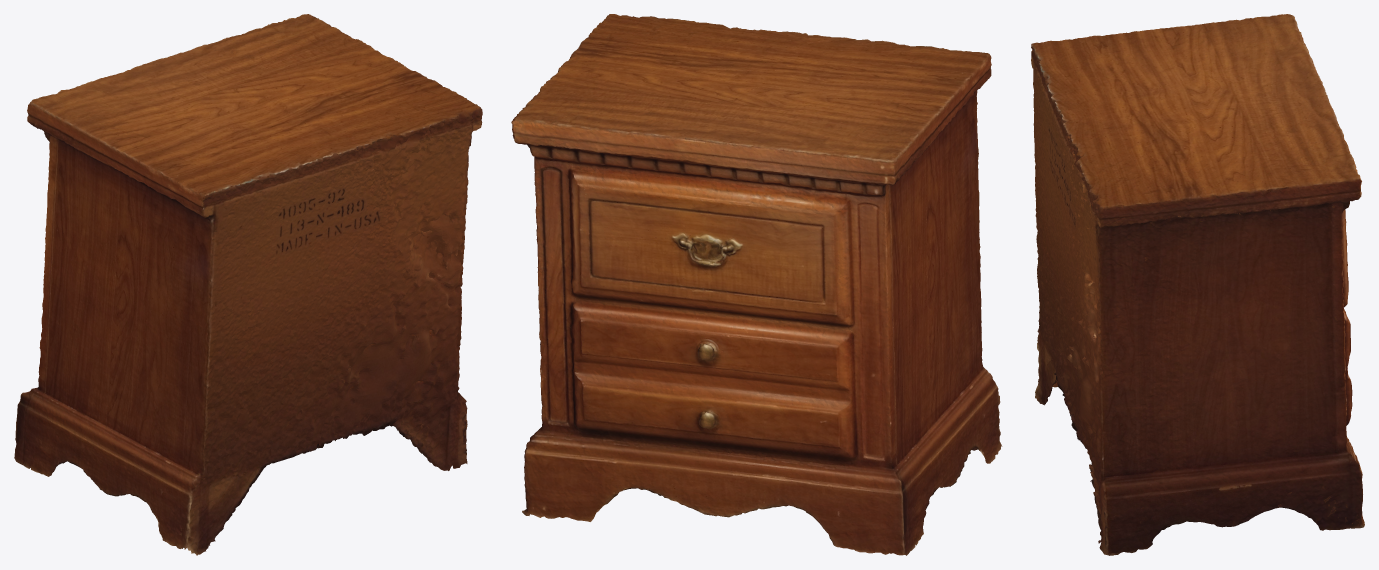
File: bedside_table.glb
The picture shows the model from 3 angles, left to right: view 1: azimuth 30°, elevation 25°; view 2: azimuth 150°, elevation 25°; view 3: azimuth 270°, elevation 25°; orthographic projection. The views are drawn at different scales.
Parts seen in each view (by area): view 1: Object_3, Object_8, Object_5, Object_9, Object_7, Object_4, Object_6, Object_10; view 2: Object_3, Object_9, Object_5, Object_8, Object_6, Object_7, Object_4, Object_10; view 3: Object_3, Object_8, Object_5, Object_9, Object_6, Object_7, Object_4, Object_10.
Part boxes in pixels (left/top/right/bottom): Object_3: left=19, top=14, right=472, bottom=466; Object_8: left=44, top=201, right=466, bottom=348; Object_5: left=38, top=314, right=461, bottom=457; Object_9: left=47, top=143, right=470, bottom=285; Object_7: left=20, top=265, right=463, bottom=485; Object_4: left=27, top=93, right=482, bottom=397; Object_6: left=14, top=267, right=467, bottom=555; Object_10: left=44, top=125, right=481, bottom=228; Object_3: left=511, top=17, right=990, bottom=553; Object_9: left=534, top=91, right=978, bottom=264; Object_5: left=540, top=279, right=981, bottom=454; Object_8: left=536, top=155, right=979, bottom=333; Object_6: left=522, top=347, right=1002, bottom=555; Object_7: left=526, top=225, right=991, bottom=490; Object_4: left=512, top=14, right=991, bottom=387; Object_10: left=527, top=76, right=989, bottom=198; Object_3: left=1031, top=14, right=1361, bottom=205; Object_8: left=1034, top=142, right=1348, bottom=350; Object_5: left=1037, top=251, right=1352, bottom=458; Object_9: left=1033, top=85, right=1347, bottom=291; Object_6: left=1035, top=146, right=1364, bottom=555; Object_7: left=1035, top=203, right=1359, bottom=485; Object_4: left=1031, top=45, right=1361, bottom=398; Object_10: left=1031, top=63, right=1349, bottom=234.
Bounding box in the file's own units: 4.18 × 4.09 × 3.3.
2 materials, 1 textured.
